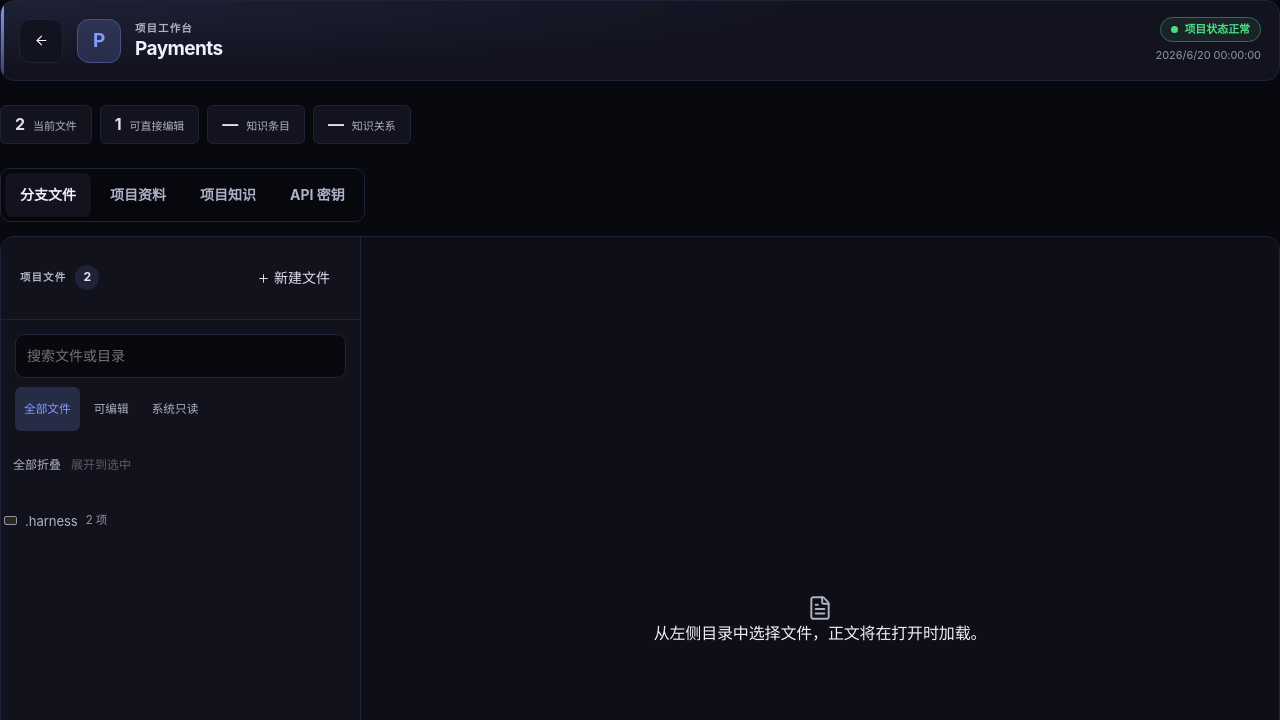
Test: ProjectWorkspace › uses the canonical workspace navigation without inventing data for pending query pages
Click the tab "项目资料" at (138, 195), box [95, 173, 181, 217]
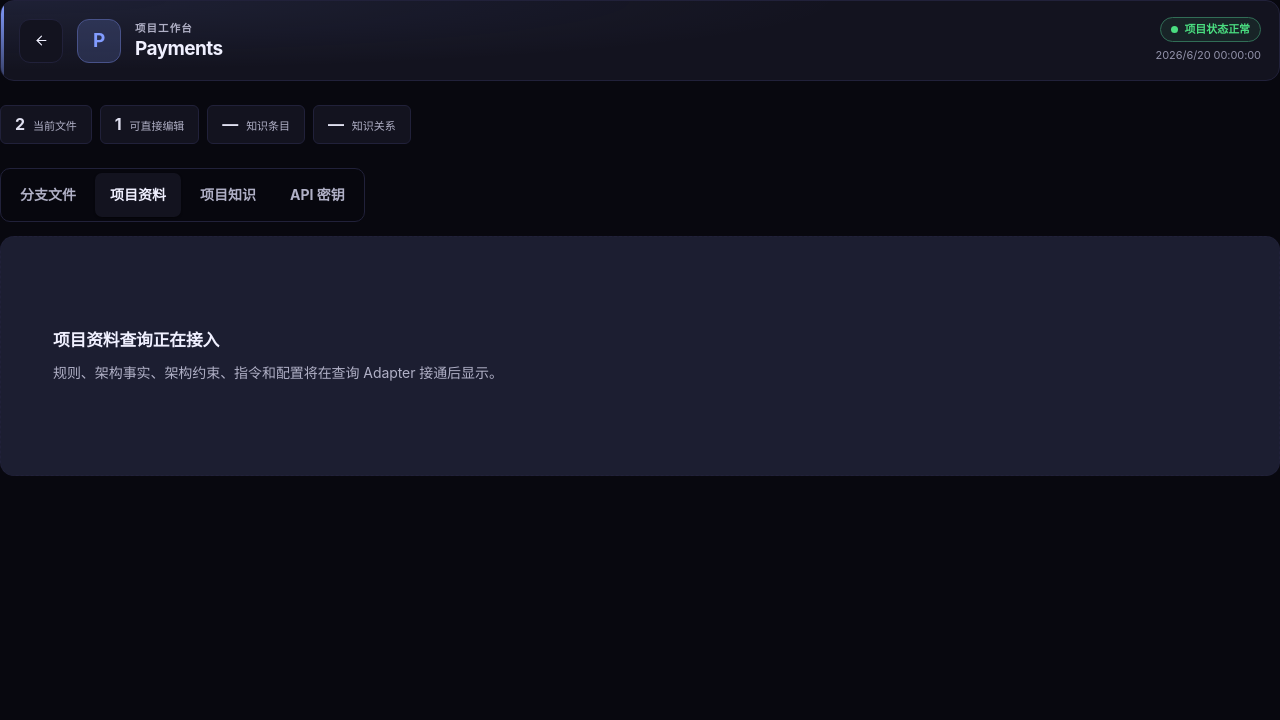
Now the heading "项目资料查询正在接入" is shown, box [53, 330, 219, 350]
